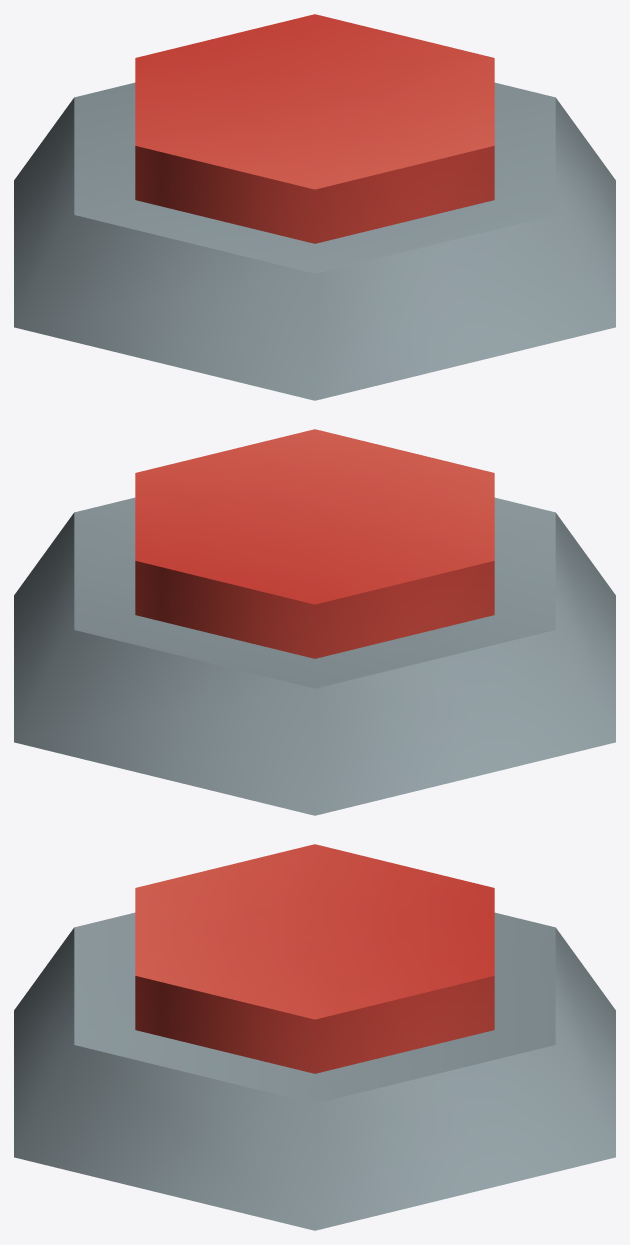
Rendered from buttonRound.glb.
3 views of the same model, one above another, from view 1: azimuth 30°, elevation 25°; view 2: azimuth 150°, elevation 25°; view 3: azimuth 270°, elevation 25° (orthographic).
Visible parts, largest first — view 1: buttonRound, knobRound; view 2: buttonRound, knobRound; view 3: buttonRound, knobRound.
Boxes of the visible parts, box(x1,y1,x2,y2) form: buttonRound: box(14, 82, 615, 400); knobRound: box(135, 14, 494, 243); buttonRound: box(14, 497, 615, 815); knobRound: box(135, 429, 494, 658); buttonRound: box(14, 912, 615, 1230); knobRound: box(135, 844, 494, 1073).
Bounding box in the file's own units: 0.58 × 0.14 × 0.5023.
Materials: 1 (1 with a texture image).
